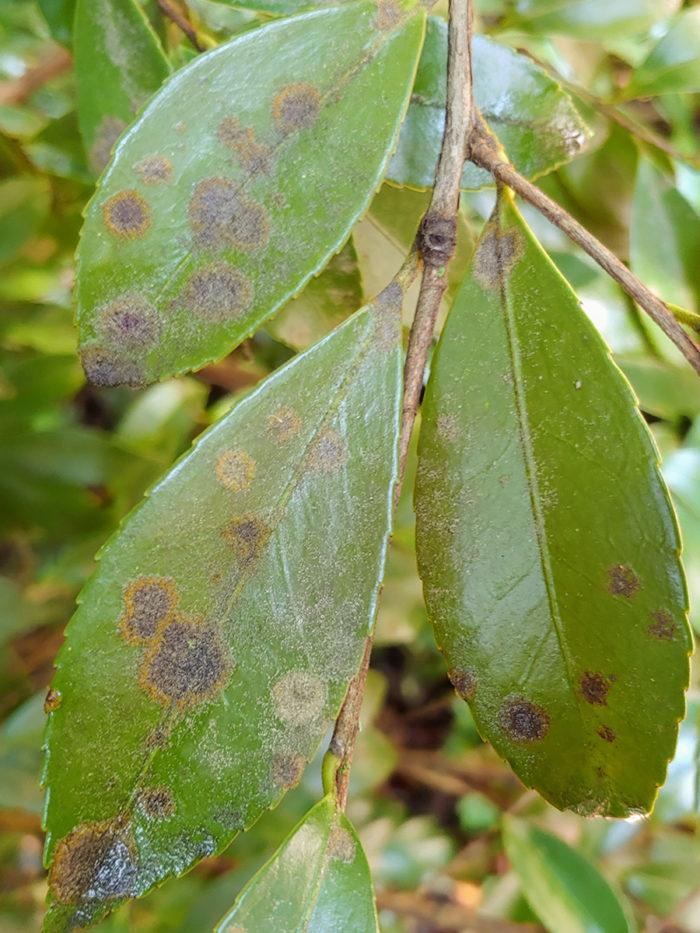late_blight: (115, 574, 232, 708), (82, 288, 165, 384), (54, 816, 135, 903), (189, 176, 268, 251), (182, 253, 251, 323), (101, 188, 152, 240), (499, 695, 552, 743), (218, 117, 266, 168), (477, 230, 523, 283), (273, 82, 320, 132), (224, 516, 268, 566), (305, 428, 344, 472), (275, 674, 320, 712), (215, 450, 255, 490), (373, 284, 399, 337), (268, 406, 300, 441), (142, 787, 173, 817), (580, 670, 607, 704), (136, 155, 169, 181), (450, 666, 475, 699)
